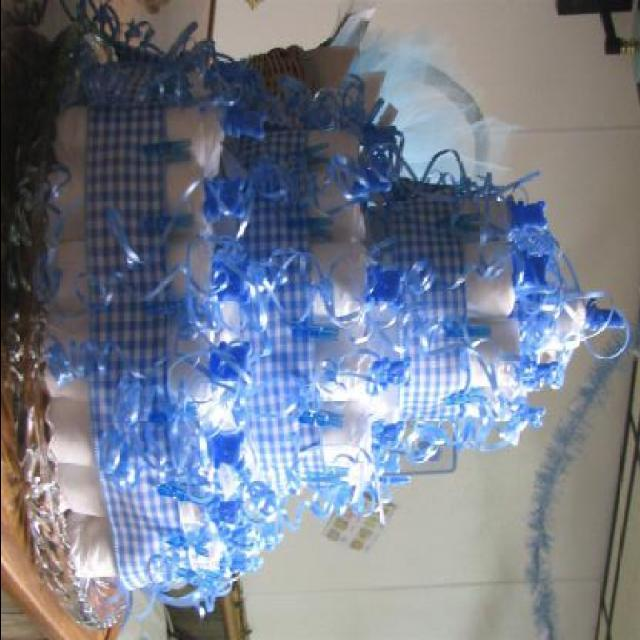Cake: (2, 24, 584, 628)
